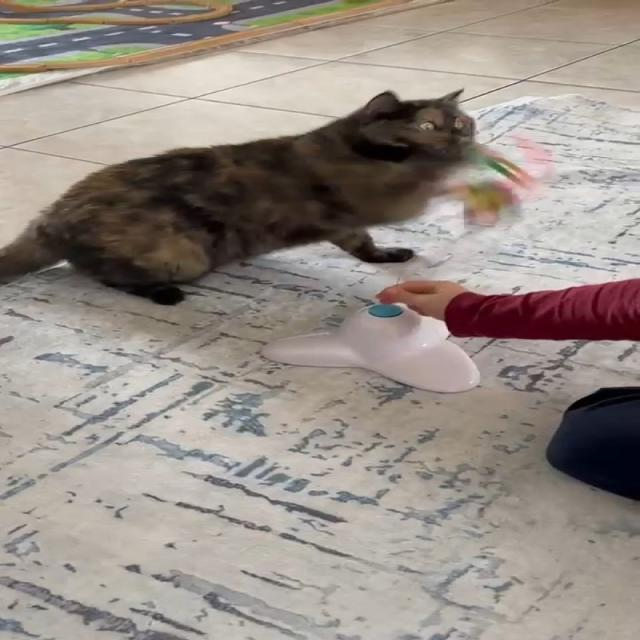authorized: (0, 87, 512, 306)
